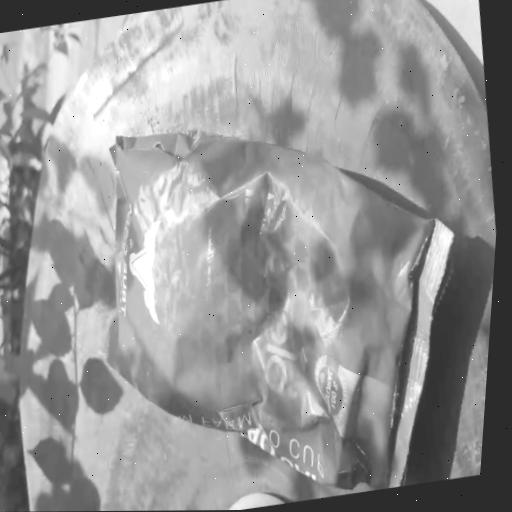cafe_xay: (104, 130, 454, 489)
